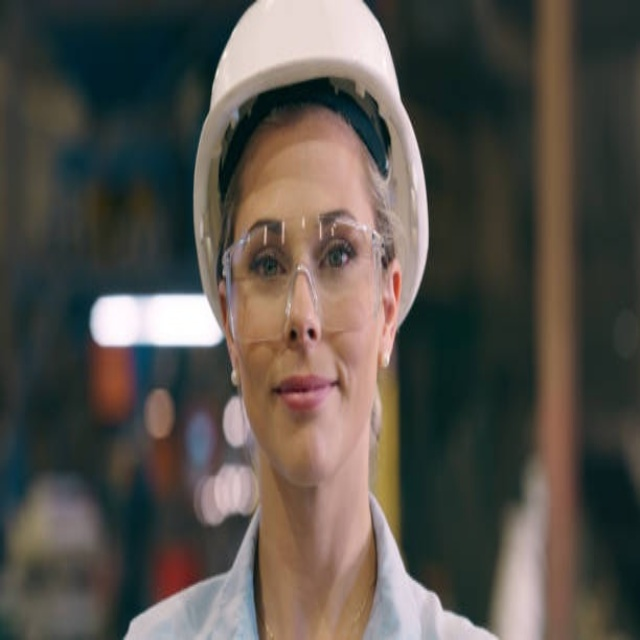Gafas: (222, 214, 389, 346)
Sin_mascara: (262, 353, 341, 450)
